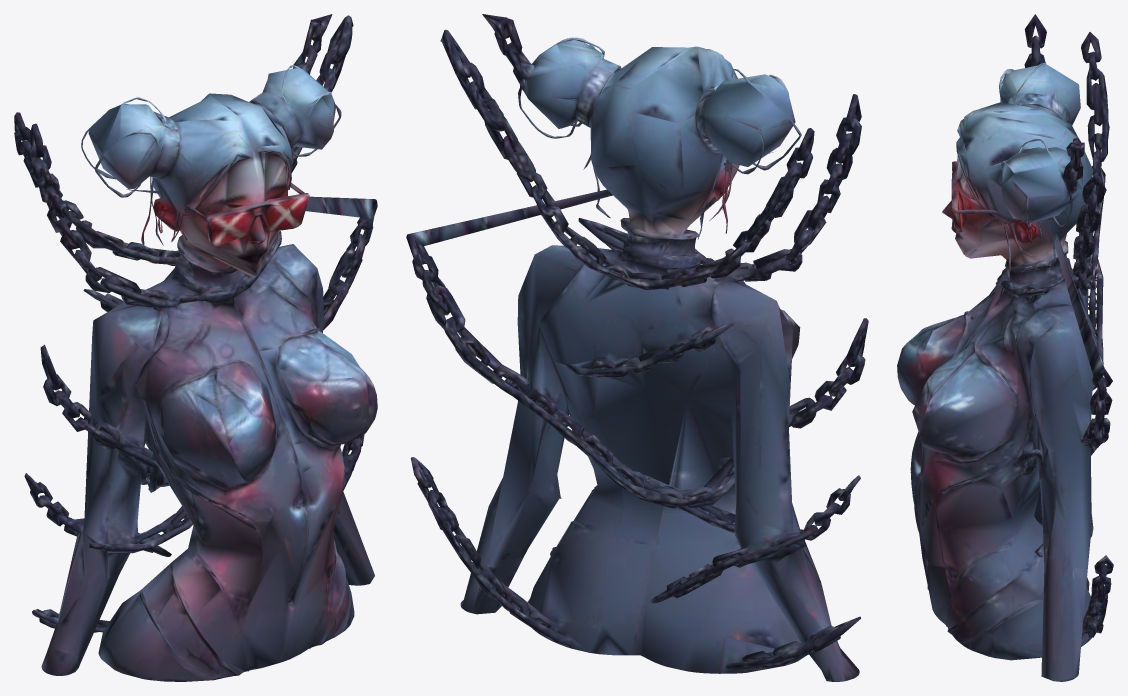
3 views of the same model, side by side, from view 1: azimuth 30°, elevation 25°; view 2: azimuth 150°, elevation 25°; view 3: azimuth 270°, elevation 25° (orthographic). The views are drawn at different scales.
Parts seen in each view (by area): view 1: node_0; view 2: node_0; view 3: node_0.
Boxes of the visible parts, x1,y1,x2,y2 form: node_0: (14,14,377,681); node_0: (406,14,868,681); node_0: (897,14,1113,681).
Bounding box in the file's own units: 0.7166 × 0.9895 × 0.3728.
1 material, 1 textured.
